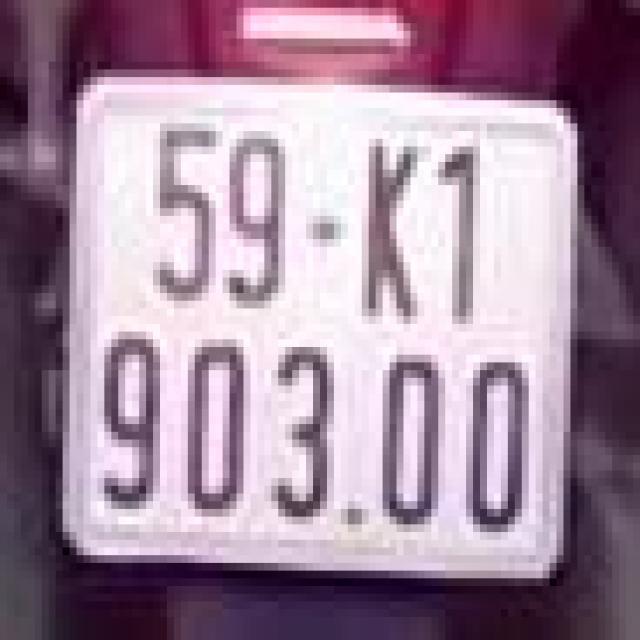0: (358, 332, 442, 555), (456, 339, 532, 555), (181, 324, 250, 516)
1: (438, 119, 508, 351)
3: (257, 332, 341, 540)
5: (153, 112, 244, 343)
9: (83, 308, 167, 524), (223, 120, 306, 336)
K: (334, 112, 431, 335)
